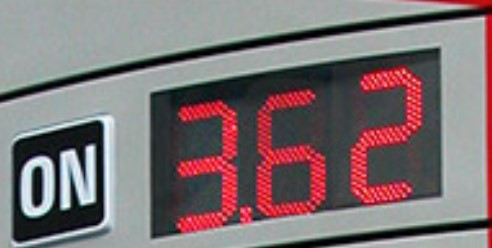digits: (247, 83, 333, 220), (164, 82, 242, 232), (344, 63, 426, 202)
